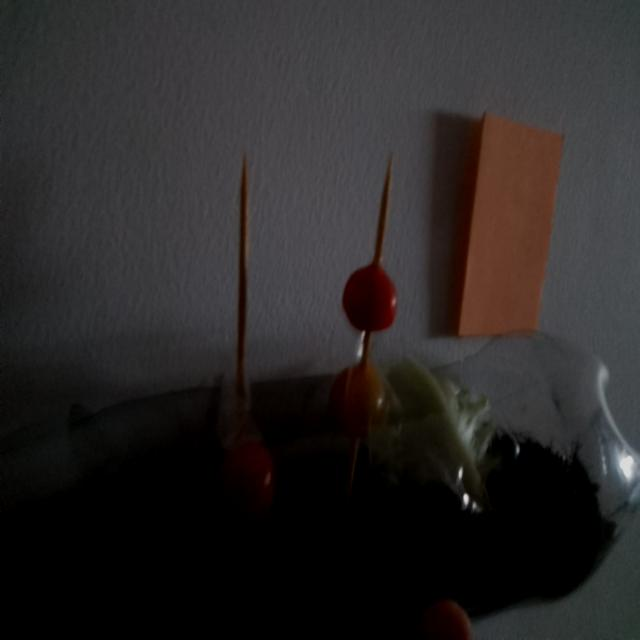card: (452, 113, 562, 336)
fruit_maturation: (330, 361, 387, 439)
fully_grown: (215, 442, 277, 529), (342, 263, 397, 331)
